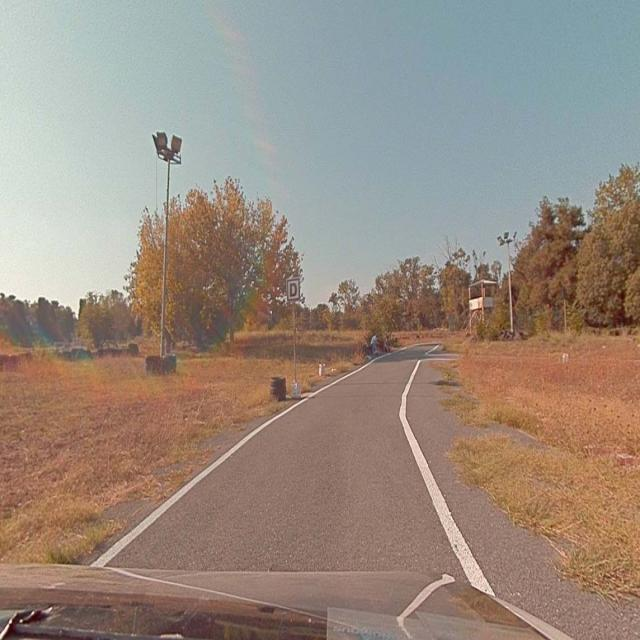durak: (286, 280, 300, 300)
